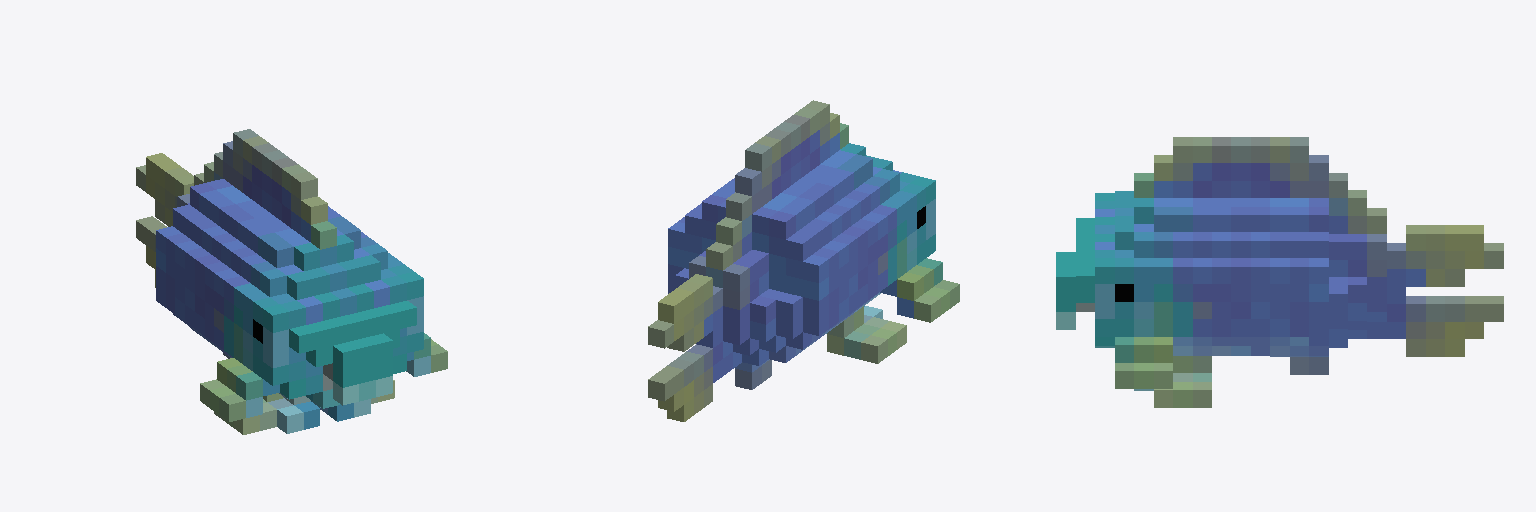
The picture shows the model from 3 angles: view 1: azimuth 30°, elevation 25°; view 2: azimuth 150°, elevation 25°; view 3: azimuth 270°, elevation 25°; orthographic projection.
Visible parts, largest first — view 1: object 1; view 2: object 1; view 3: object 1.
Part boxes in pixels (bbox=[...]): object 1: bbox=[136, 129, 447, 434]; object 1: bbox=[648, 100, 959, 421]; object 1: bbox=[1056, 137, 1503, 407].
Bounding box in the file's own units: 2.6 × 2.6 × 4.6.
Materials: 1 (1 with a texture image).